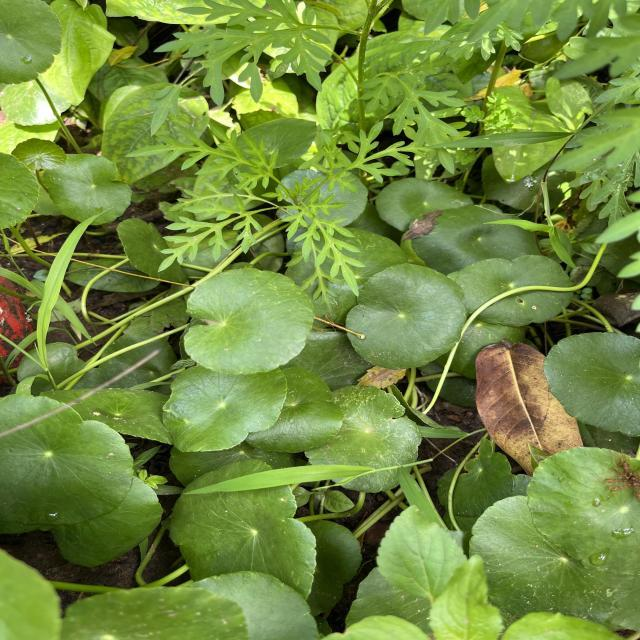Bacopa monnieri: (166, 457, 320, 604), (0, 391, 137, 529), (182, 265, 316, 378), (343, 262, 469, 371), (302, 383, 424, 495), (160, 363, 289, 455), (540, 330, 640, 438), (40, 151, 133, 227), (10, 136, 70, 174)
